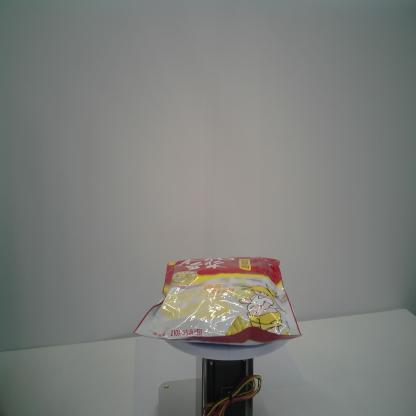Instant Drink: (133, 256, 303, 347)
